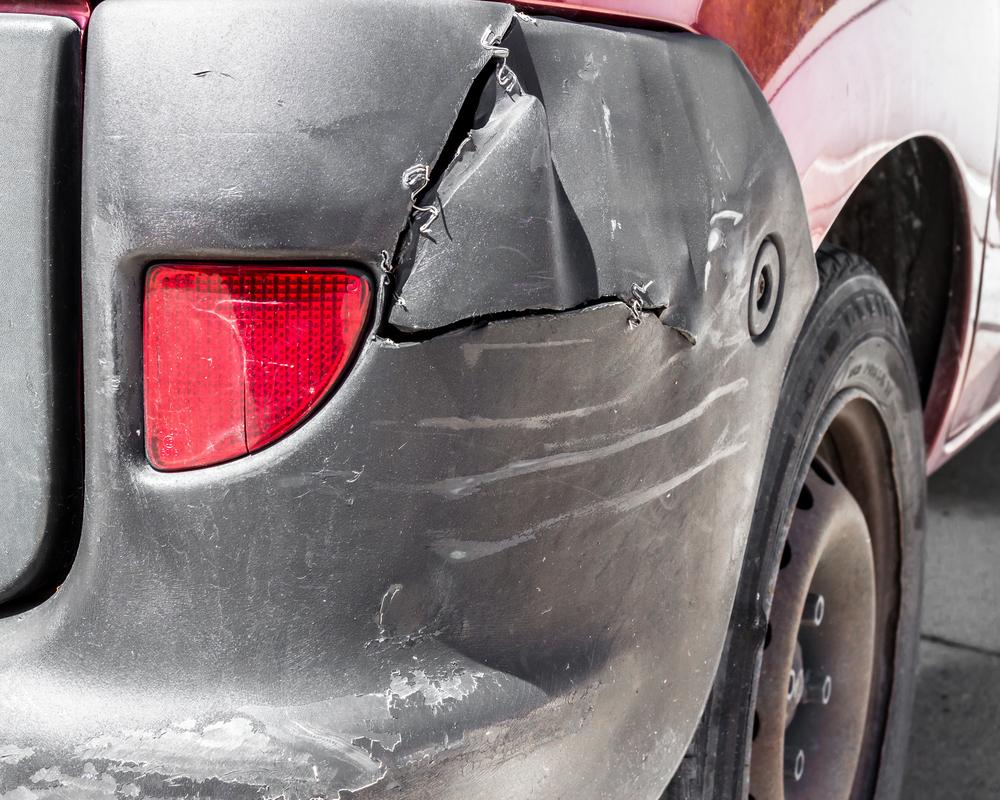crack: (374, 11, 701, 349), (242, 356, 250, 453)
dent: (550, 30, 724, 306)
scratch: (383, 210, 759, 576), (0, 661, 503, 800)
